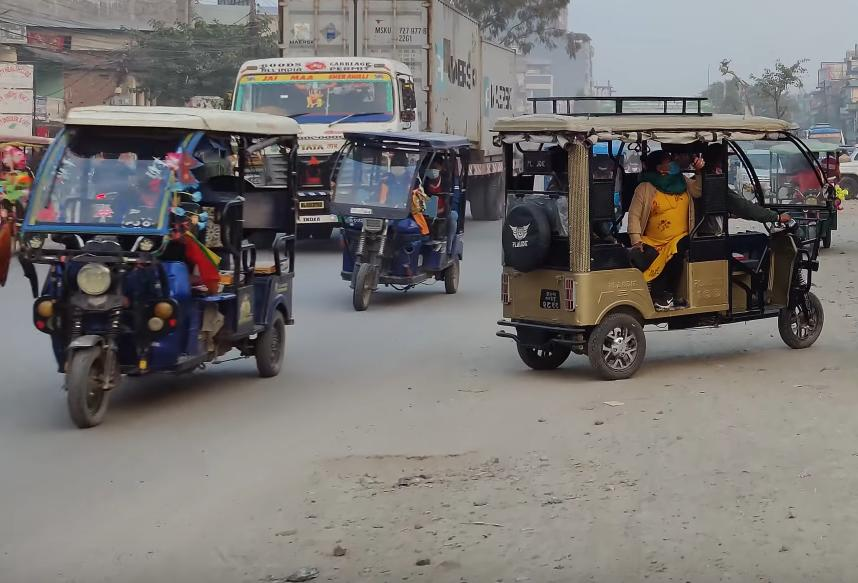e-rickshaw: (489, 108, 837, 388), (17, 94, 299, 429), (326, 117, 464, 321)
